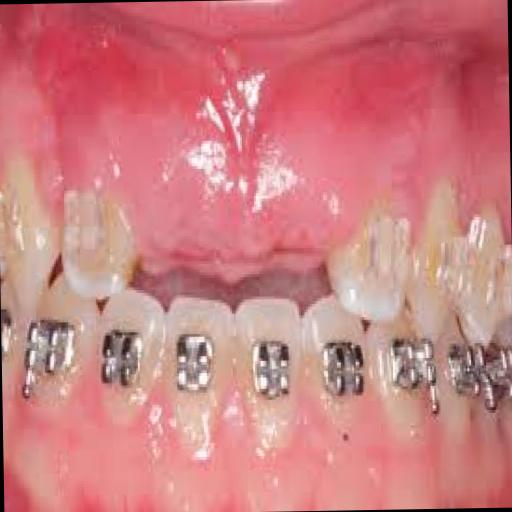correct_brace: (245, 329, 297, 412), (99, 323, 147, 400), (172, 327, 218, 403), (316, 341, 368, 406)
incorrect_brace: (303, 289, 372, 451), (94, 292, 166, 430)
